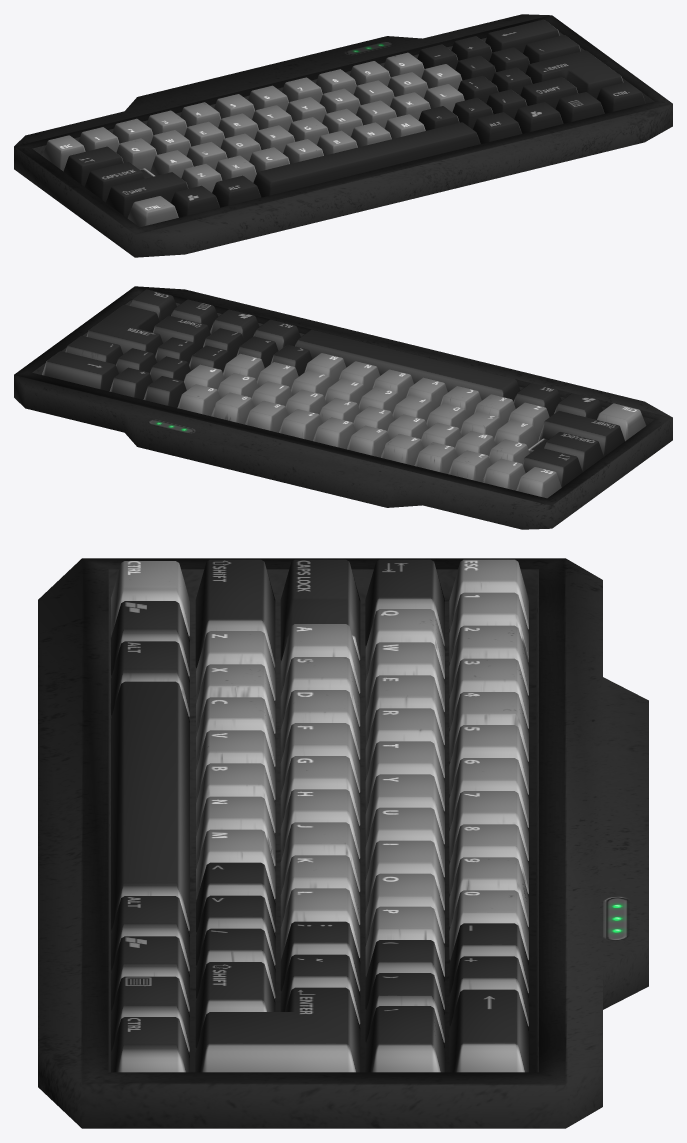
Rendered from Black_Keyboard_New.fbx.
The picture shows the model from 3 angles, top to bottom: view 1: azimuth 30°, elevation 25°; view 2: azimuth 150°, elevation 25°; view 3: azimuth 270°, elevation 25°; orthographic projection. The views are drawn at different scales.
Parts seen in each view (by area): view 1: Tecla 1.001, Tecla 1.058, Tecla 1.042, Tecla 1.054, Tecla 1.028, Tecla 1.041, Tecla 1.026, Tecla 1.053, Tecla 1.055, Tecla 1.059, Tecla 1.060, Tecla 1.056 (+50 smaller); view 2: Tecla 1.001, Tecla 1.058, Tecla 1.042, Tecla 1.028, Tecla 1.054, Tecla 1.041, Tecla 1.026, Tecla 1.053, Tecla 1.029, Tecla 1.055, Tecla 1.003, Alpha2 (+50 smaller); view 3: Tecla 1.001, Tecla 1.058, Tecla 1.042, Tecla 1.028, Tecla 1.054, Tecla 1.041, Tecla 1.029, Tecla 1.026, Tecla 1.062, Tecla 1.053, Tecla 1.059, Tecla 1.060 (+50 smaller).
Boxes of the visible parts, bbox=[...] form: Tecla 1.001: bbox=[14, 14, 672, 257]; Tecla 1.058: bbox=[253, 122, 480, 197]; Tecla 1.042: bbox=[525, 50, 623, 98]; Tecla 1.054: bbox=[106, 172, 188, 218]; Tecla 1.028: bbox=[485, 19, 559, 53]; Tecla 1.041: bbox=[85, 162, 154, 202]; Tecla 1.026: bbox=[63, 146, 123, 186]; Tecla 1.053: bbox=[520, 77, 578, 108]; Tecla 1.055: bbox=[127, 196, 178, 227]; Tecla 1.059: bbox=[473, 112, 522, 143]; Tecla 1.060: bbox=[514, 102, 563, 133]; Tecla 1.056: bbox=[171, 185, 219, 217]; Tecla 1.001: bbox=[14, 286, 672, 529]; Tecla 1.058: bbox=[295, 329, 520, 401]; Tecla 1.042: bbox=[86, 304, 162, 356]; Tecla 1.028: bbox=[42, 351, 118, 391]; Tecla 1.054: bbox=[538, 411, 624, 456]; Tecla 1.041: bbox=[528, 432, 603, 471]; Tecla 1.026: bbox=[522, 447, 582, 487]; Tecla 1.053: bbox=[153, 315, 210, 351]; Tecla 1.029: bbox=[65, 335, 123, 364]; Tecla 1.055: bbox=[597, 403, 646, 441]; Tecla 1.003: bbox=[516, 467, 561, 498]; Alpha2: bbox=[448, 450, 491, 482]; Tecla 1.001: bbox=[38, 558, 648, 1128]; Tecla 1.058: bbox=[111, 681, 189, 930]; Tecla 1.042: bbox=[195, 987, 360, 1072]; Tecla 1.028: bbox=[449, 989, 528, 1072]; Tecla 1.054: bbox=[195, 559, 275, 667]; Tecla 1.041: bbox=[280, 559, 360, 660]; Tecla 1.029: bbox=[365, 1006, 444, 1072]; Tecla 1.026: bbox=[365, 559, 444, 645]; Tecla 1.062: bbox=[111, 1017, 189, 1072]; Tecla 1.053: bbox=[195, 962, 275, 1048]; Tecla 1.059: bbox=[111, 896, 189, 971]; Tecla 1.060: bbox=[111, 936, 189, 1011].
Bounding box in the file's own units: 4764 × 278 × 2342.
